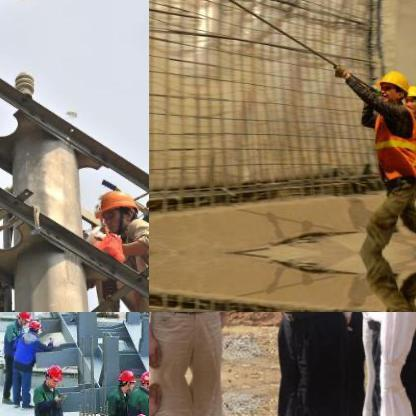Helmet: (90, 186, 140, 235), (375, 66, 409, 104), (44, 360, 62, 388), (115, 368, 135, 390), (403, 82, 415, 110), (23, 318, 41, 332), (139, 368, 148, 393), (11, 312, 29, 323)
